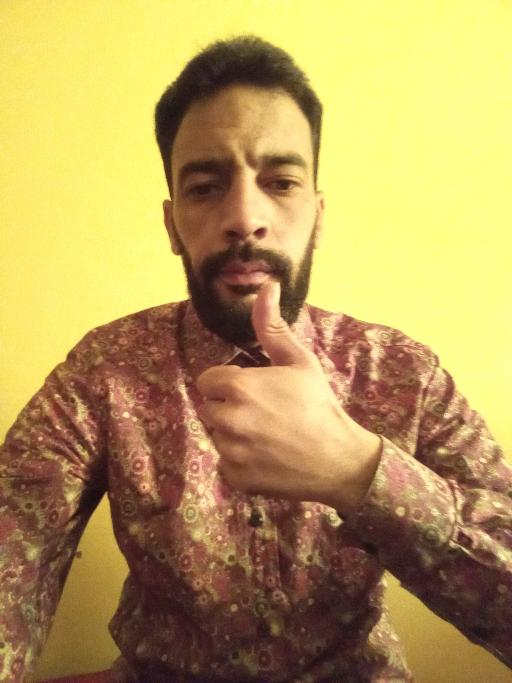like: (192, 277, 352, 507)
